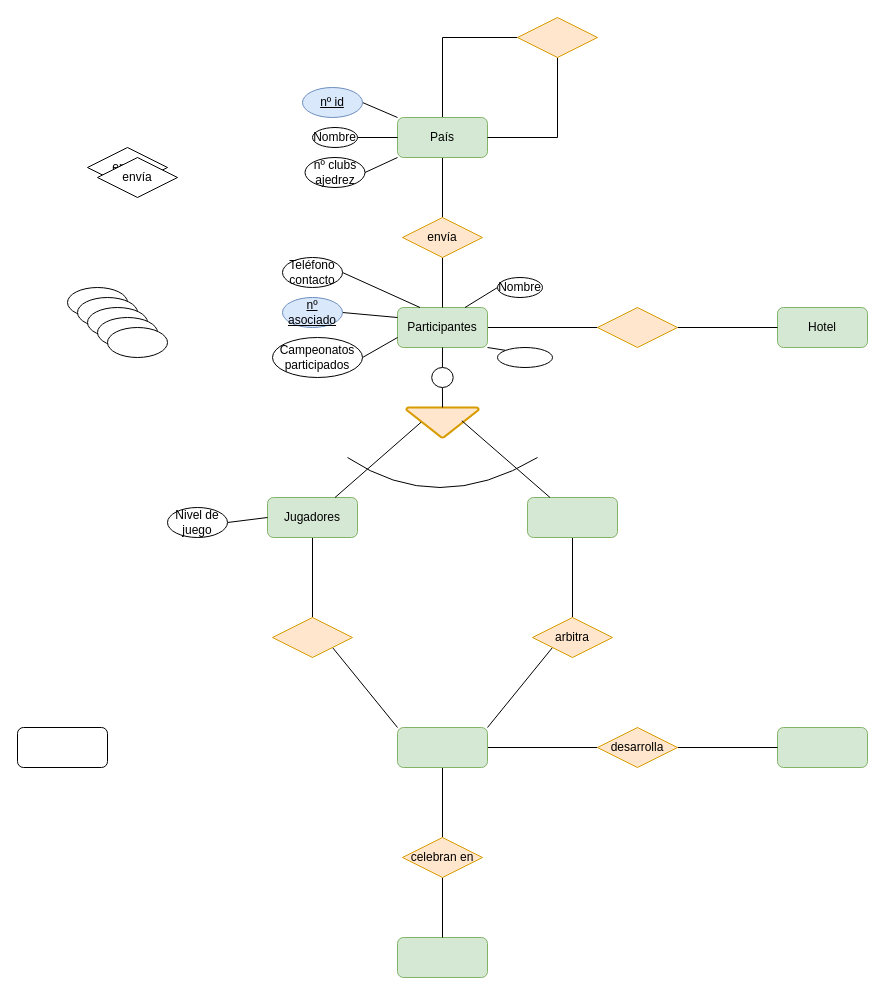
Image size: 885x995. Some labels were removed from this diagram. Here are the shapes that lost their labels. From the top down, the centre of each, then its label:
the point at 557,37: representa
the point at 637,327: se alojan
the point at 524,357: Dirección
the point at 572,517: Árbitros
the point at 312,637: juegan
the point at 62,747: Movimientos
the point at 442,747: Partidas
the point at 822,747: Jornadas
the point at 442,957: Salas
